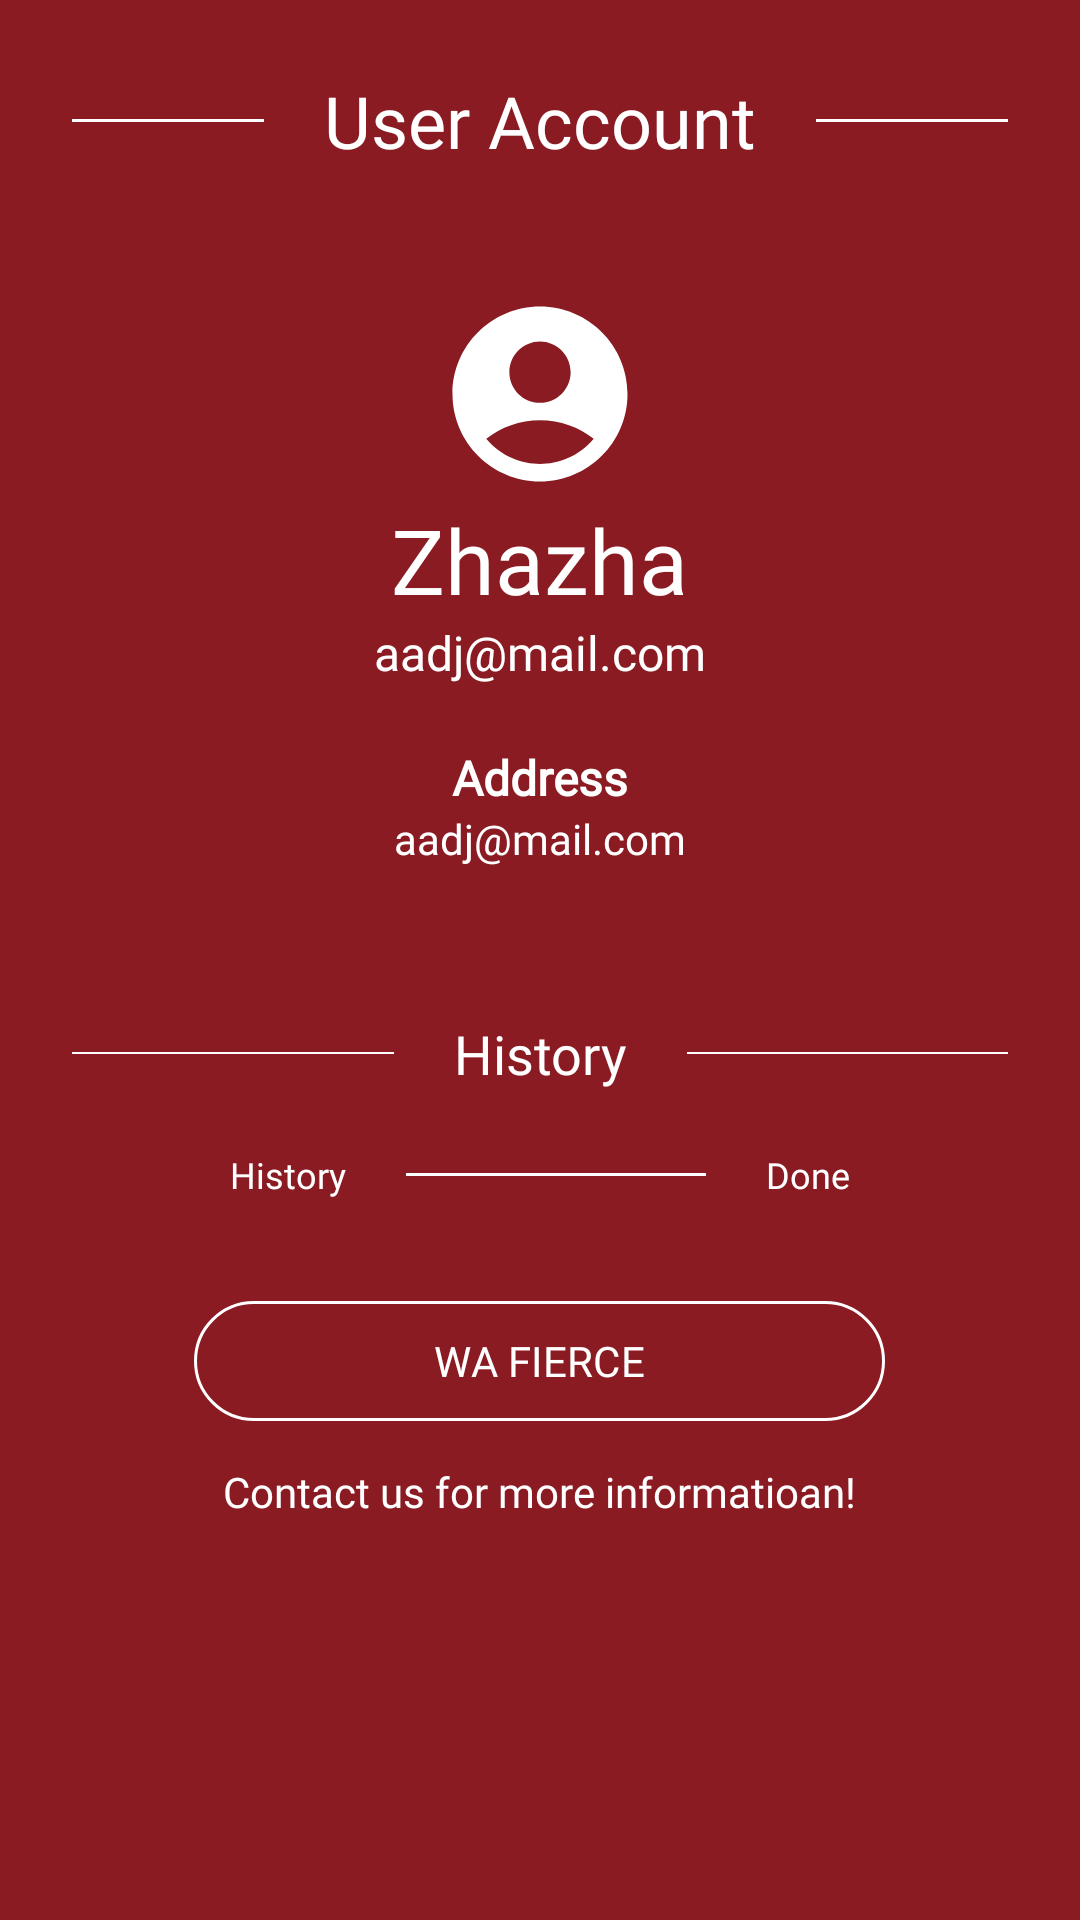

Where icons sit on this 1080 × 1920 app screen, as (x1, y1, x2, y2):
account circle: (452, 306, 628, 482)
